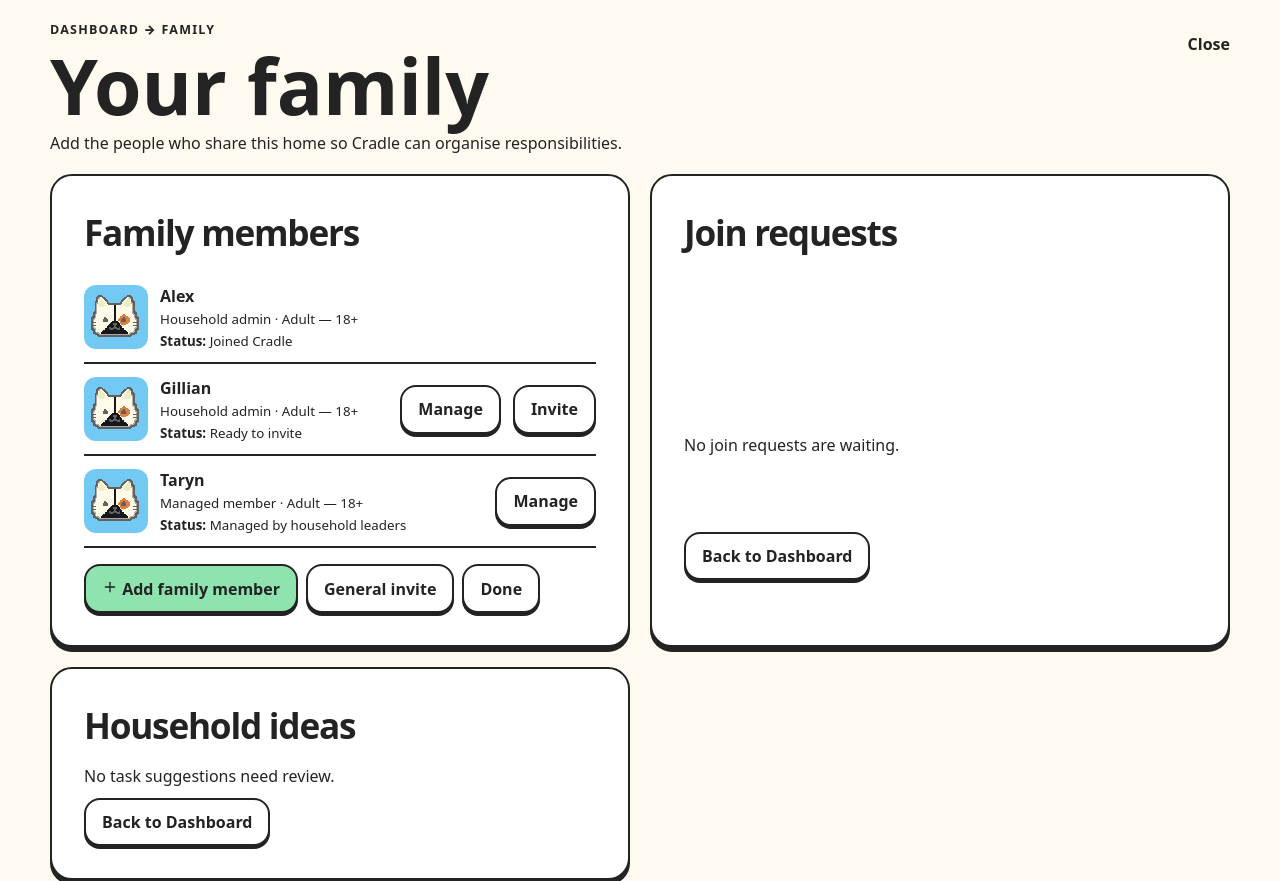
Test: family and personal user journeys › gives leadership reachable family member, managed avatar and suggestion-review actions
The width and height of the screenshot is (1280, 881).
Check: the text "Taryn" is shown, box [160,469,204,491]
Click the button "Manage" next to "Managed by household leaders" at {"x": 546, "y": 501}, box [496,477,596,526]
(page scrolled)
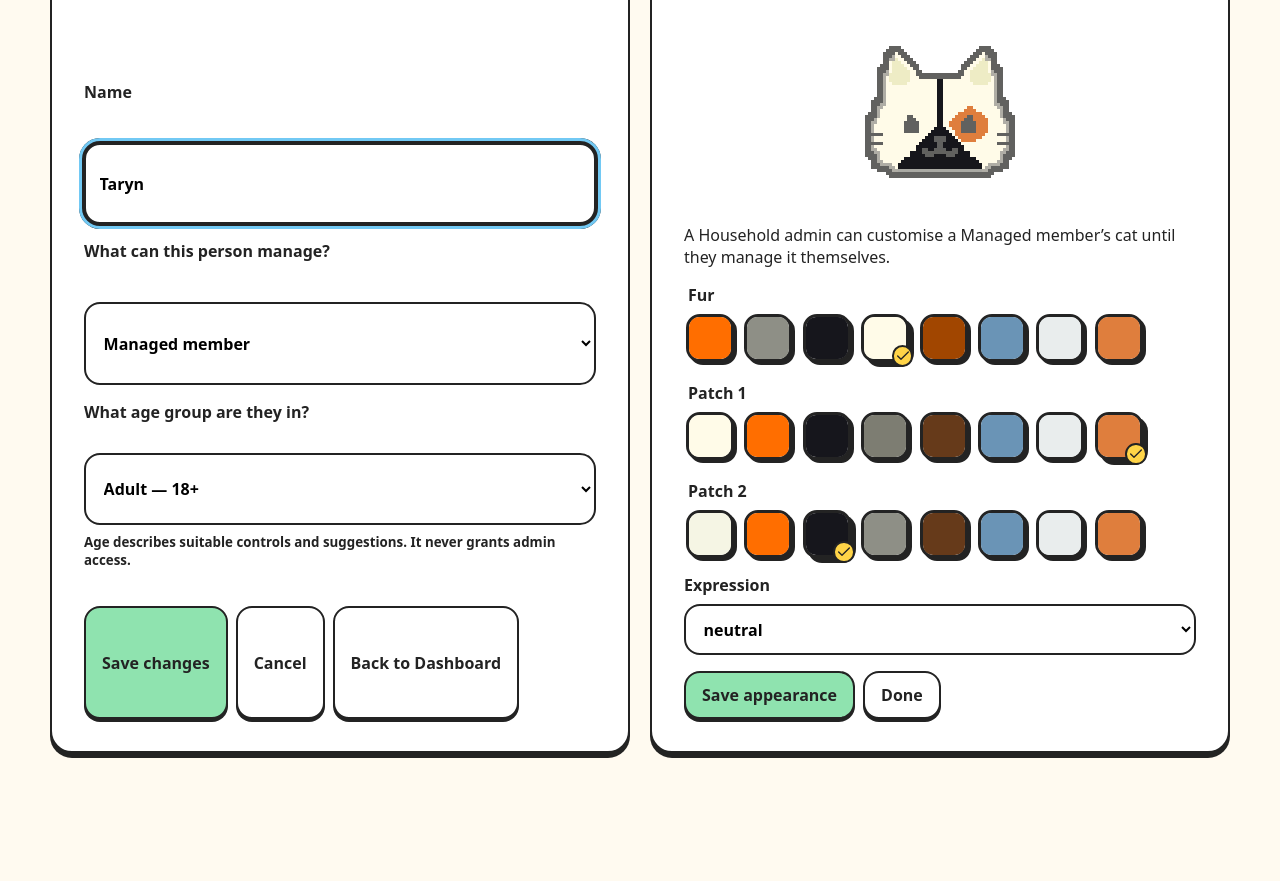
Click the button "Cancel" at {"x": 280, "y": 663}, box [236,606,325,719]
(page scrolled)
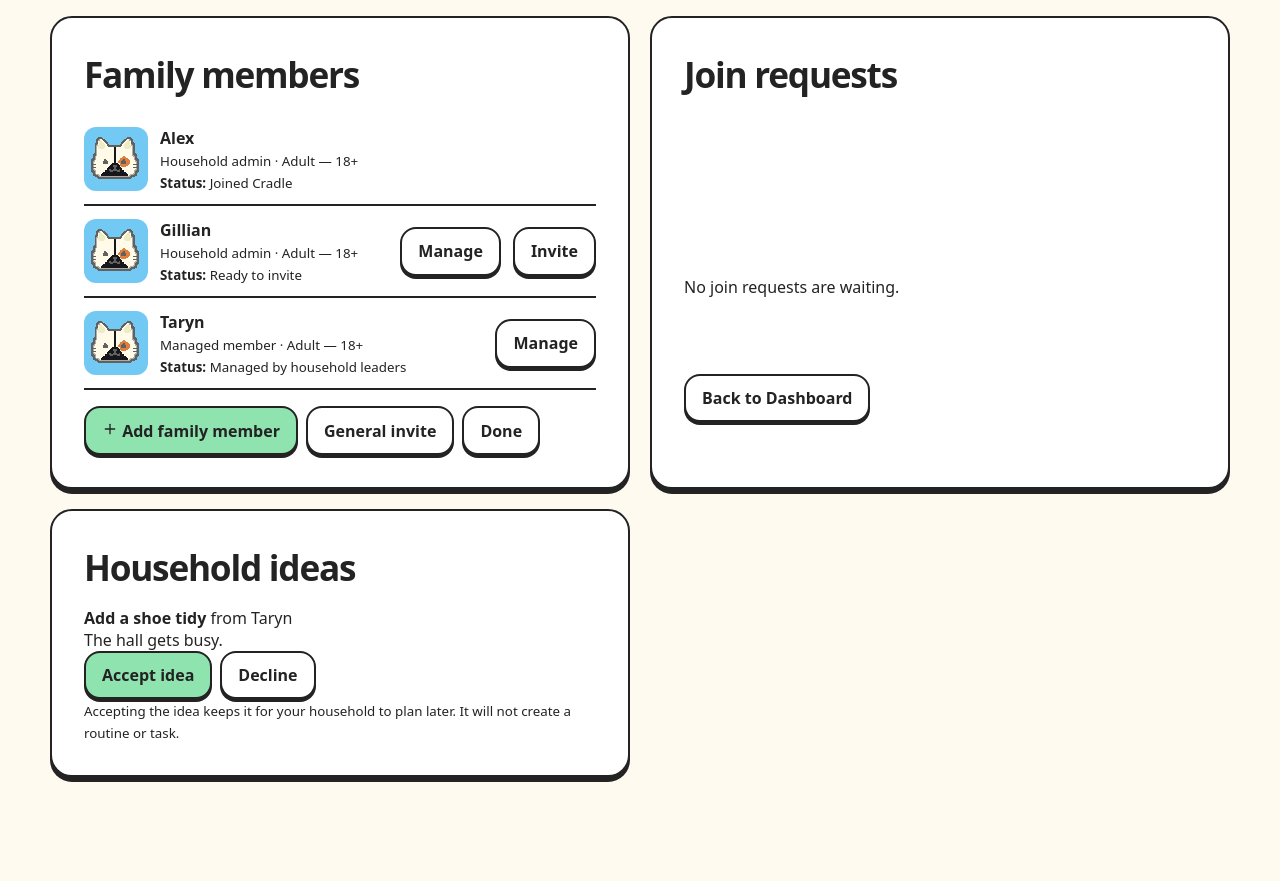
Click the button "Accept idea" at {"x": 148, "y": 675}, box [84,651,212,699]
(page scrolled)
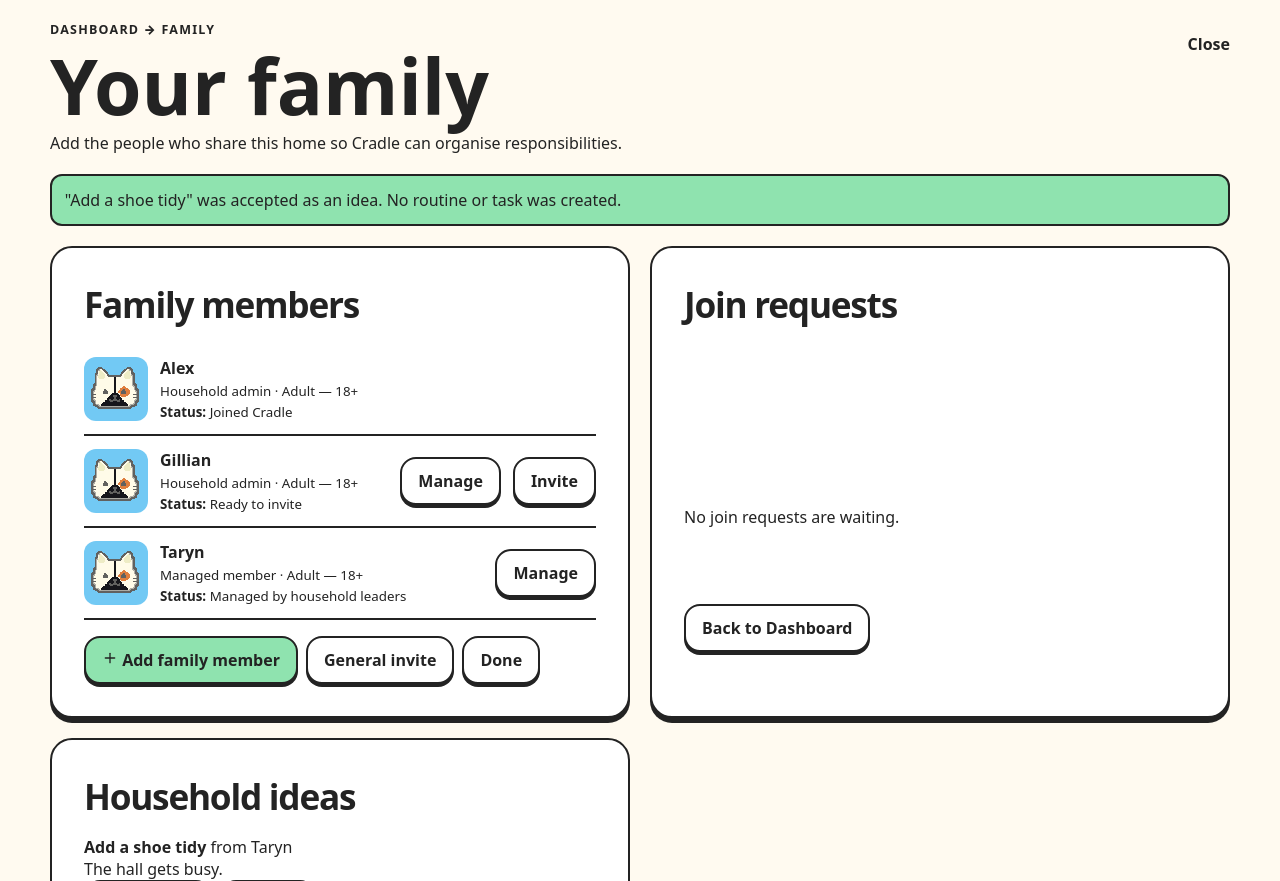
Check: the text "\"Add a shoe tidy\" was accepted as an idea. No routine or task was created." is shown, box [50,174,1230,226]
